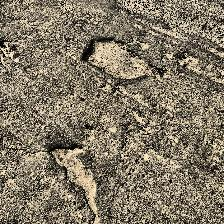pothole: (48, 144, 102, 224), (80, 35, 168, 81), (1, 40, 18, 64)
